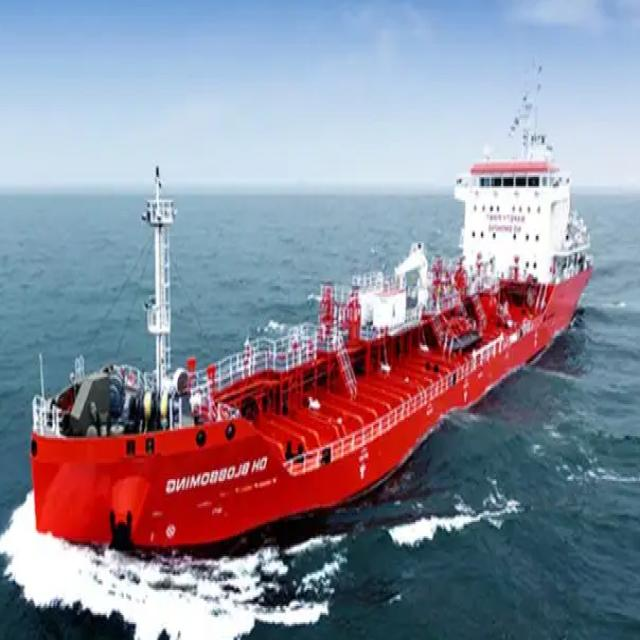cargoship: (30, 70, 589, 563)
